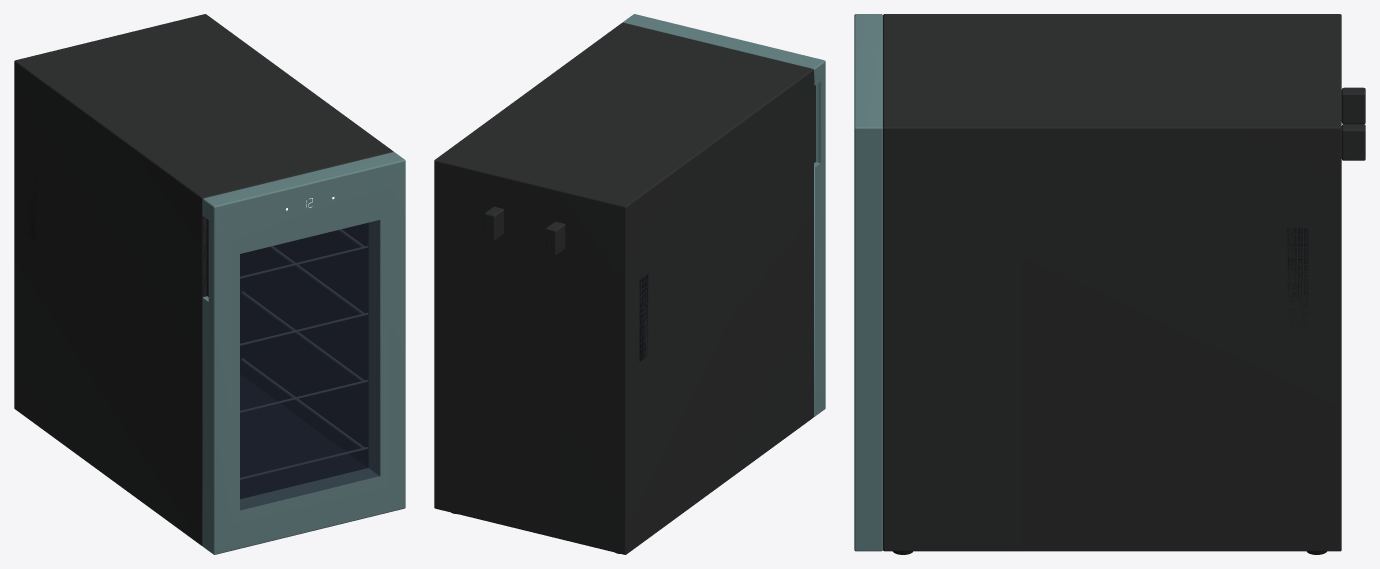
Rendered from W0082GTB.glb.
3 renders of one model, left to right at view 1: azimuth 30°, elevation 25°; view 2: azimuth 150°, elevation 25°; view 3: azimuth 270°, elevation 25°, orthographic. The views are drawn at different scales.
Parts seen in each view (by area): view 1: BodyCase, DoorFrame, WindowGlass, InnerBack, RackRail_0_1; view 2: BodyCase, DoorFrame, HandlePocketBack, InnerBack; view 3: BodyCase, DoorFrame, HandlePocketBack, InnerBack.
Boxes of the visible parts, x1,y1,x2,y2 form: BodyCase: (14,14,393,546); DoorFrame: (202,152,405,554); WindowGlass: (240,220,380,510); InnerBack: (27,159,368,498); RackRail_0_1: (240,229,367,479); BodyCase: (434,22,813,554); DoorFrame: (623,14,825,416); HandlePocketBack: (484,85,815,255); InnerBack: (639,273,648,361); BodyCase: (883,14,1341,551); DoorFrame: (854,14,882,551); HandlePocketBack: (1341,87,1365,160); InnerBack: (1287,228,1308,328).
Bounding box in the file's own units: 0.282 × 0.497 × 0.534.
